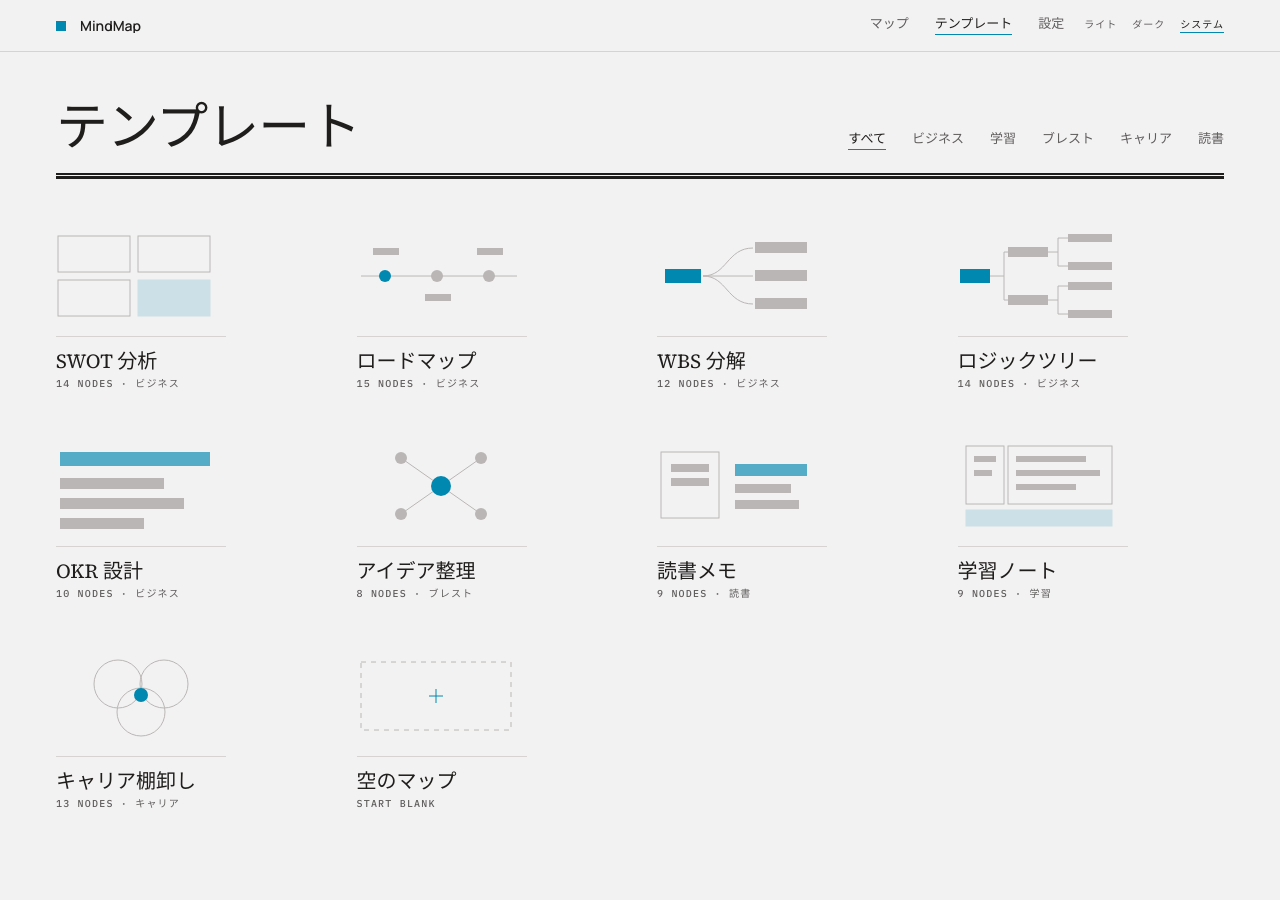
テンプレート画面 › 保存に失敗しても黙って終わらせず、その場で知らせる
The image size is (1280, 900).
Click the button "空のマップ START BLANK" at (490, 723), box [356,637,623,809]
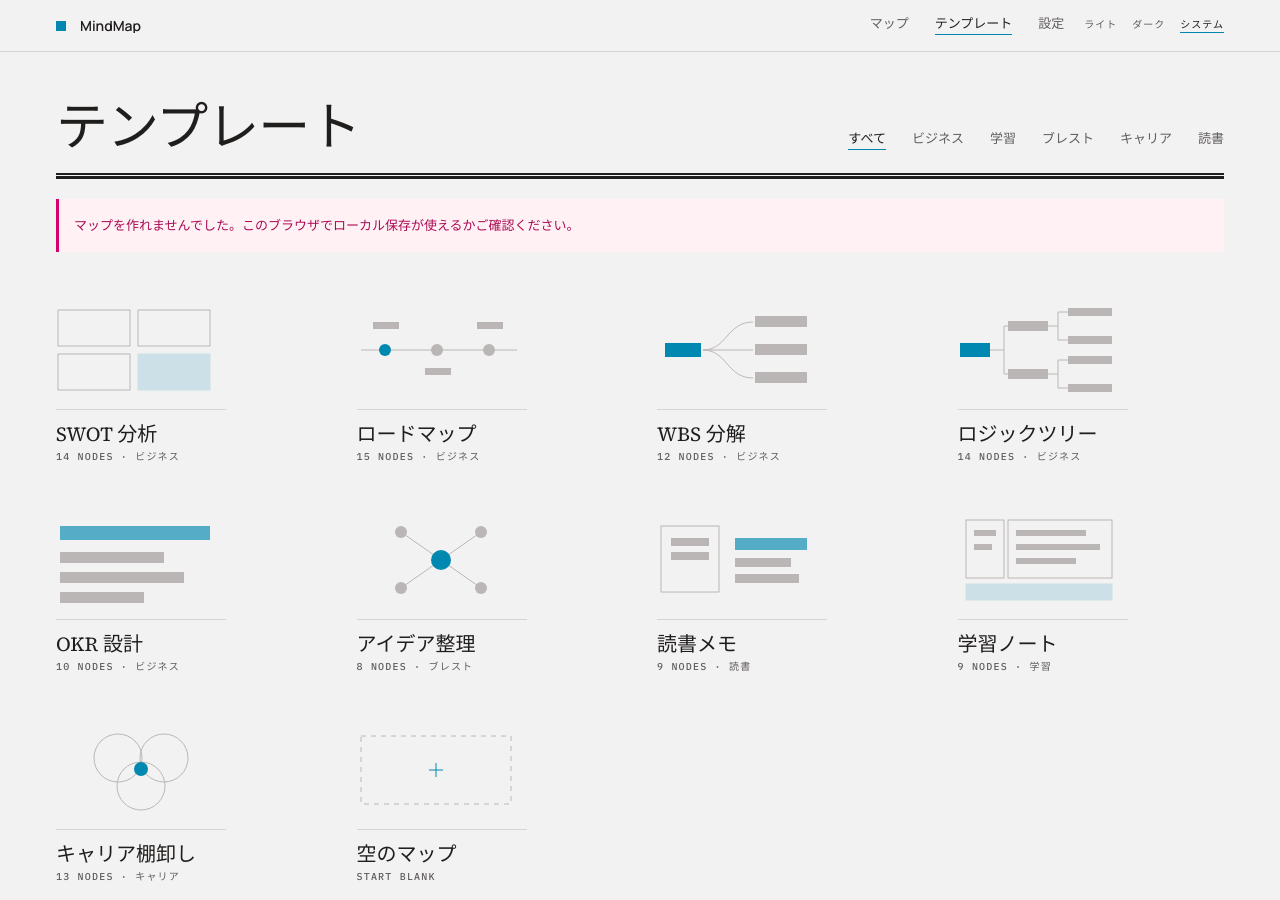
Expected: the message shows "マップを作れませんでした", [74,216,580,234]
